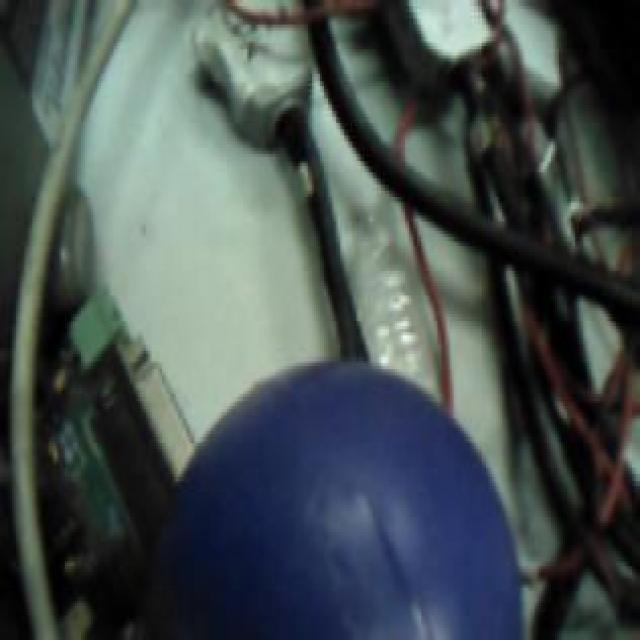BallPurple: (157, 362, 523, 640)
